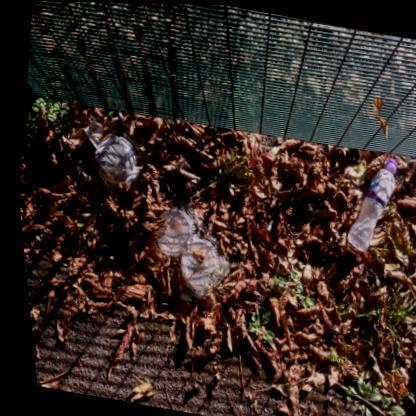Paper: (80, 118, 109, 153)
Plastic: (146, 199, 223, 299), (341, 156, 393, 250), (86, 132, 141, 196)
Waste: (380, 156, 393, 171), (261, 216, 268, 229)
